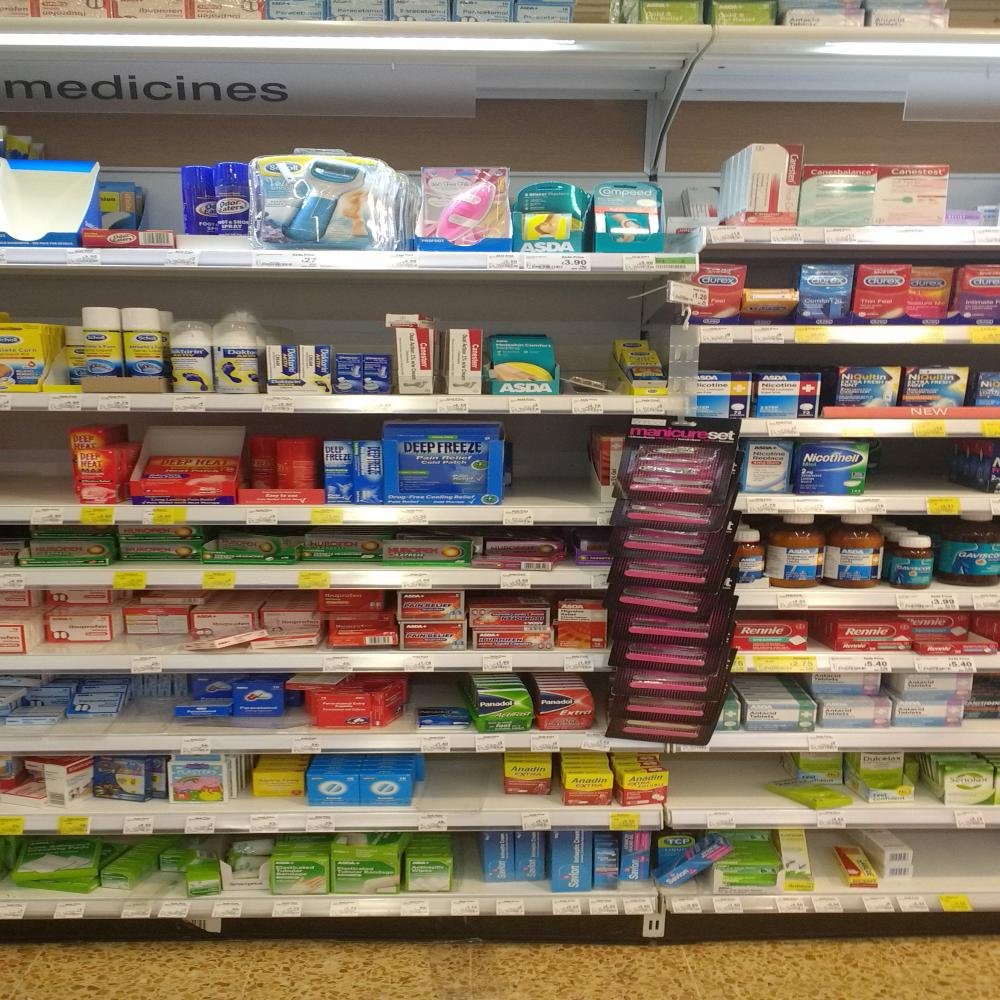shelf: (0, 890, 1000, 922), (0, 725, 1000, 755), (0, 807, 1000, 834), (0, 652, 1000, 676), (0, 246, 702, 274), (0, 390, 690, 412), (0, 505, 682, 527), (0, 568, 682, 586), (691, 586, 1000, 615), (676, 417, 1000, 441), (683, 492, 1000, 516), (685, 324, 1000, 344), (700, 225, 1000, 244)
